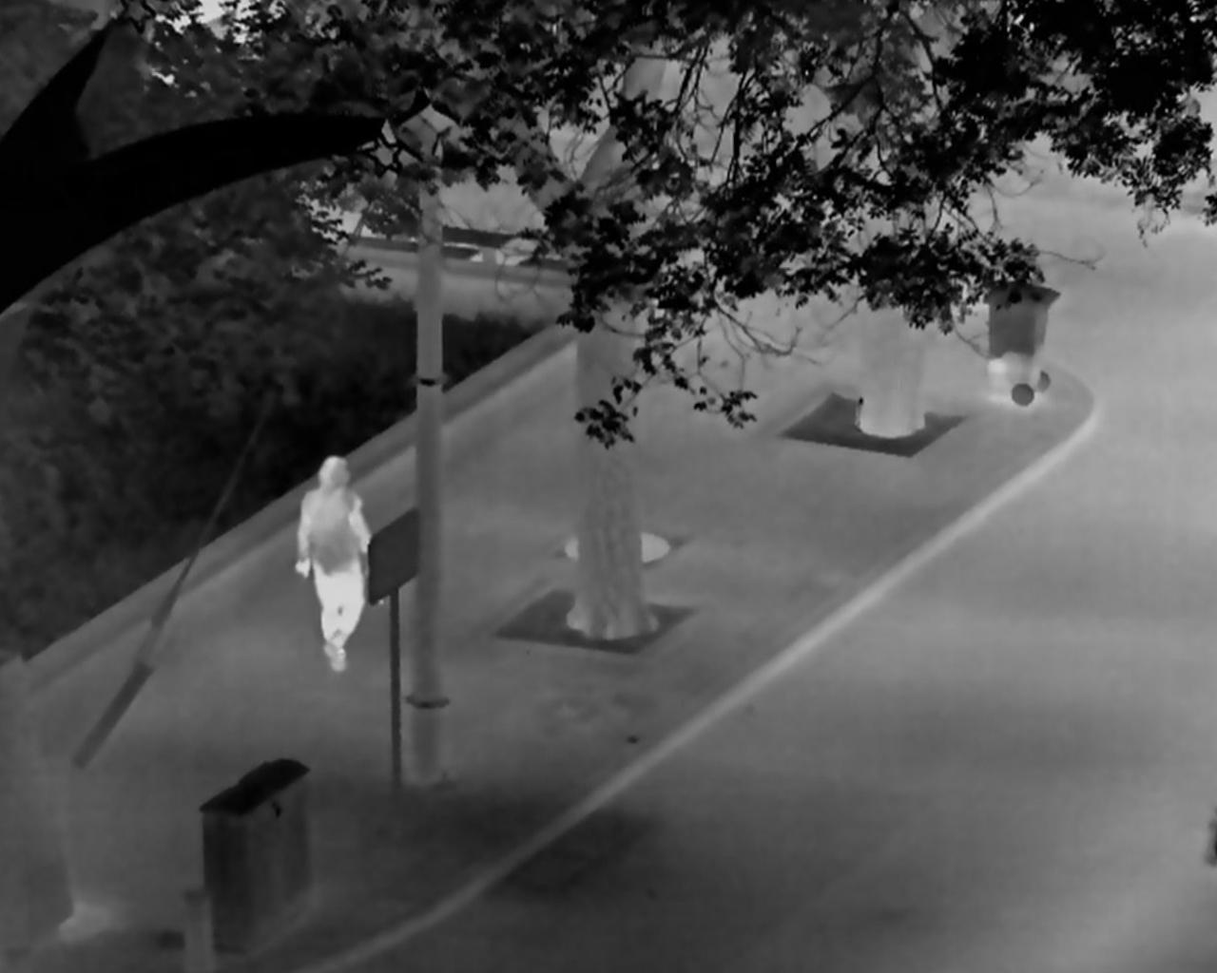person: (294, 454, 380, 674)
